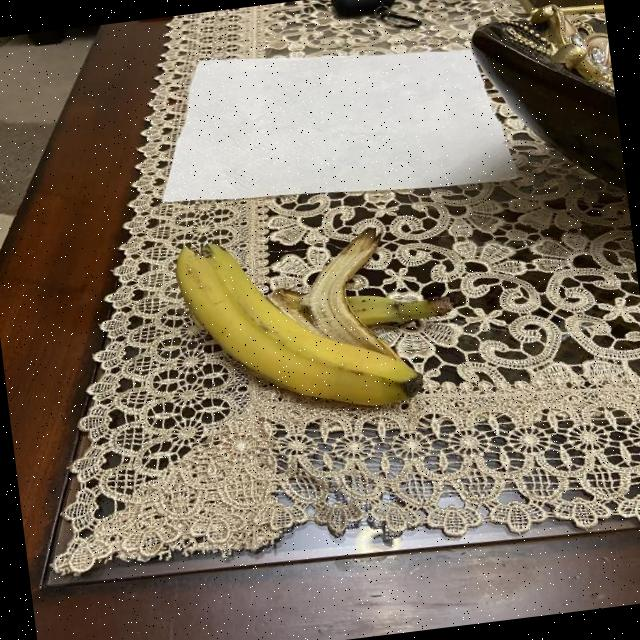banana-peel: (170, 210, 462, 430)
